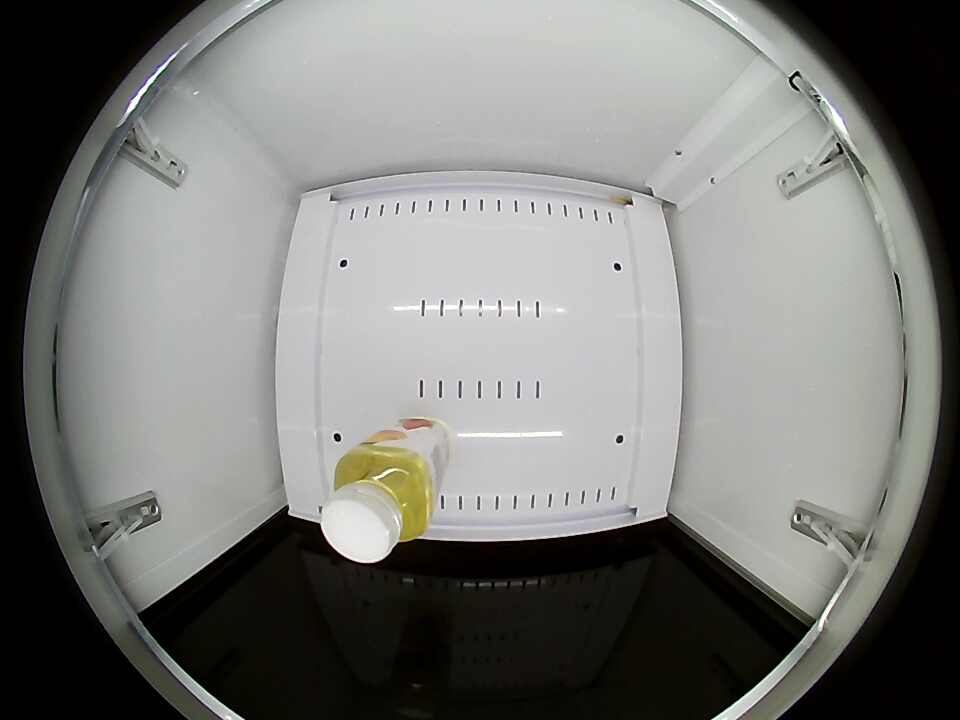chapai2: (322, 439, 436, 563)
